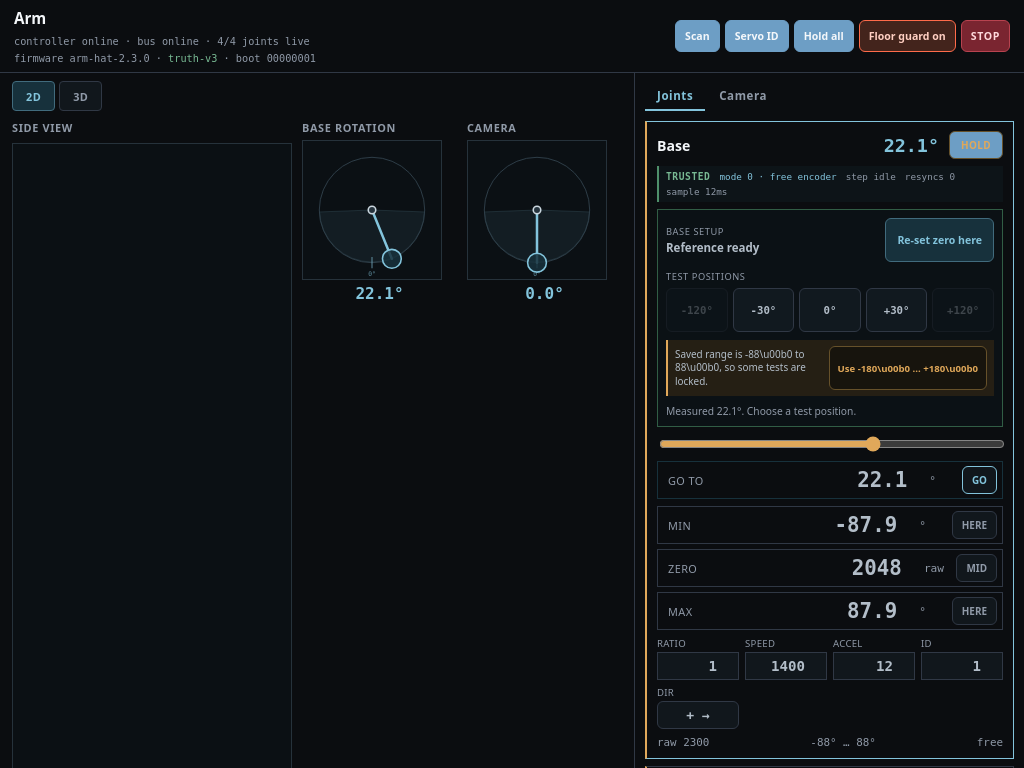
Test: SimpleArm › announces the not_focused autofocus outcome as polite status
Expected: the text "Base" is shown, x1=657 y1=136 x2=690 y2=154
Click the tab "Camera": coordinates (743, 96) x1=707 y1=81 x2=779 y2=111
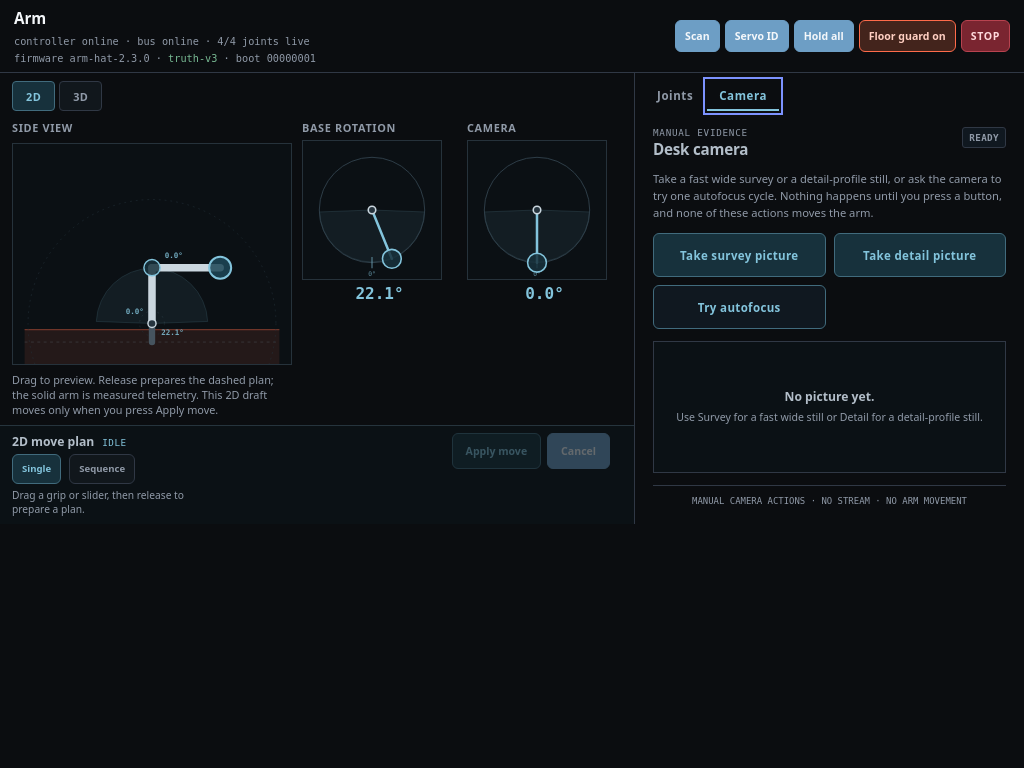
Expected: the button "Try autofocus" is enabled
Click the button "Try autofocus": coordinates (739, 307) x1=653 y1=285 x2=826 y2=329
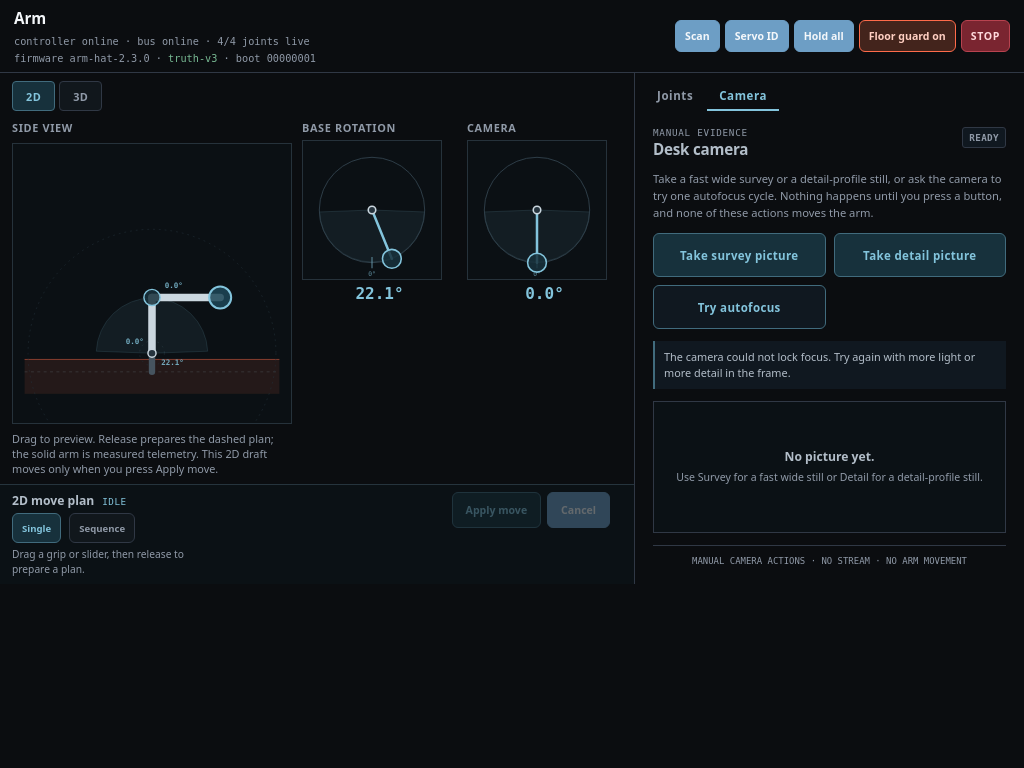
Expected: the message shows "The camera could not lock focus. Try again with more light or more detail in the frame.", x1=664 y1=349 x2=975 y2=380
